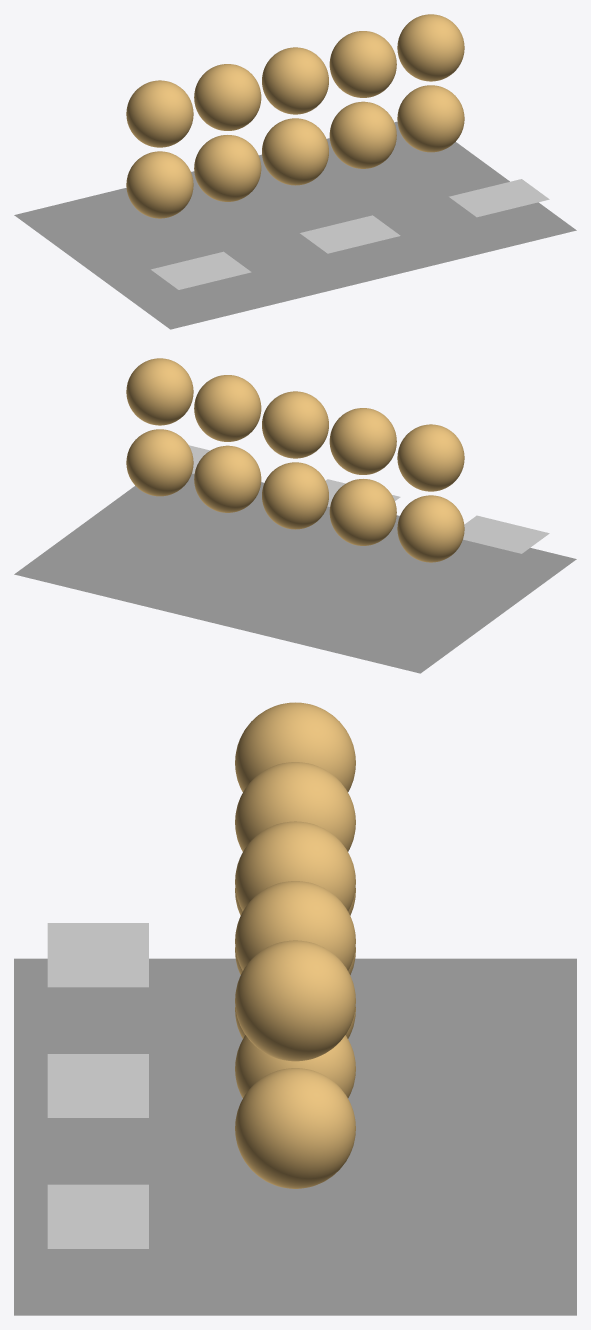
The model's file is normal_aa_reference.gltf.
The picture shows the model from 3 angles, top to bottom: view 1: azimuth 30°, elevation 25°; view 2: azimuth 150°, elevation 25°; view 3: azimuth 270°, elevation 25°; orthographic projection. The views are drawn at different scales.
Parts seen in each view (by area): view 1: Floor/UV repetition, Metal high-frequency r=0.04, Metal high-frequency r=0.8, Dielectric high-frequency r=0.04, Dielectric high-frequency r=0.2, Dielectric high-frequency r=0.8, Metal high-frequency r=0.2, Dielectric high-frequency r=0.4, Metal high-frequency r=0.08, Metal high-frequency r=0.4, Dielectric high-frequency r=0.08, flat normal scale=1 mirrored (+2 smaller); view 2: Floor/UV repetition, Metal high-frequency r=0.04, Metal high-frequency r=0.8, Dielectric high-frequency r=0.04, Dielectric high-frequency r=0.2, Dielectric high-frequency r=0.8, Metal high-frequency r=0.2, Dielectric high-frequency r=0.4, Metal high-frequency r=0.08, Metal high-frequency r=0.4, Dielectric high-frequency r=0.08, low normal scale=1; view 3: Floor/UV repetition, Metal high-frequency r=0.8, Dielectric high-frequency r=0.8, Metal high-frequency r=0.04, Metal high-frequency r=0.2, Metal high-frequency r=0.4, Metal high-frequency r=0.08, low normal scale=1, high normal scale=0, flat normal scale=1 mirrored, Dielectric high-frequency r=0.4.
Part boxes in pixels (x1,y1,x2,y2): Floor/UV repetition: (14,121,576,329); Metal high-frequency r=0.04: (126,80,193,147); Metal high-frequency r=0.8: (397,14,464,81); Dielectric high-frequency r=0.04: (126,151,193,218); Dielectric high-frequency r=0.2: (262,118,328,185); Dielectric high-frequency r=0.8: (397,85,464,152); Metal high-frequency r=0.2: (262,47,328,114); Dielectric high-frequency r=0.4: (329,101,396,168); Metal high-frequency r=0.08: (194,64,261,130); Metal high-frequency r=0.4: (329,31,396,97); Dielectric high-frequency r=0.08: (194,135,261,201); flat normal scale=1 mirrored: (300,215,400,253); Floor/UV repetition: (14,473,576,673); Metal high-frequency r=0.04: (397,424,464,491); Metal high-frequency r=0.8: (126,358,193,425); Dielectric high-frequency r=0.04: (397,495,464,562); Dielectric high-frequency r=0.2: (262,462,328,529); Dielectric high-frequency r=0.8: (126,429,193,496); Metal high-frequency r=0.2: (262,391,328,458); Dielectric high-frequency r=0.4: (194,445,261,512); Metal high-frequency r=0.08: (329,408,396,474); Metal high-frequency r=0.4: (194,375,261,441); Dielectric high-frequency r=0.08: (329,479,396,545); low normal scale=1: (463,515,549,553); Floor/UV repetition: (14,958,576,1315); Metal high-frequency r=0.8: (235,940,355,1061); Dielectric high-frequency r=0.8: (235,1068,355,1188); Metal high-frequency r=0.04: (235,702,355,791); Metal high-frequency r=0.2: (235,821,355,910); Metal high-frequency r=0.4: (235,881,355,970); Metal high-frequency r=0.08: (235,762,355,851); low normal scale=1: (47,923,148,987); high normal scale=0: (47,1184,148,1248); flat normal scale=1 mirrored: (47,1054,148,1117); Dielectric high-frequency r=0.4: (235,1035,355,1097).
Size of the model in its own units: 6 by 2.43 by 4.
